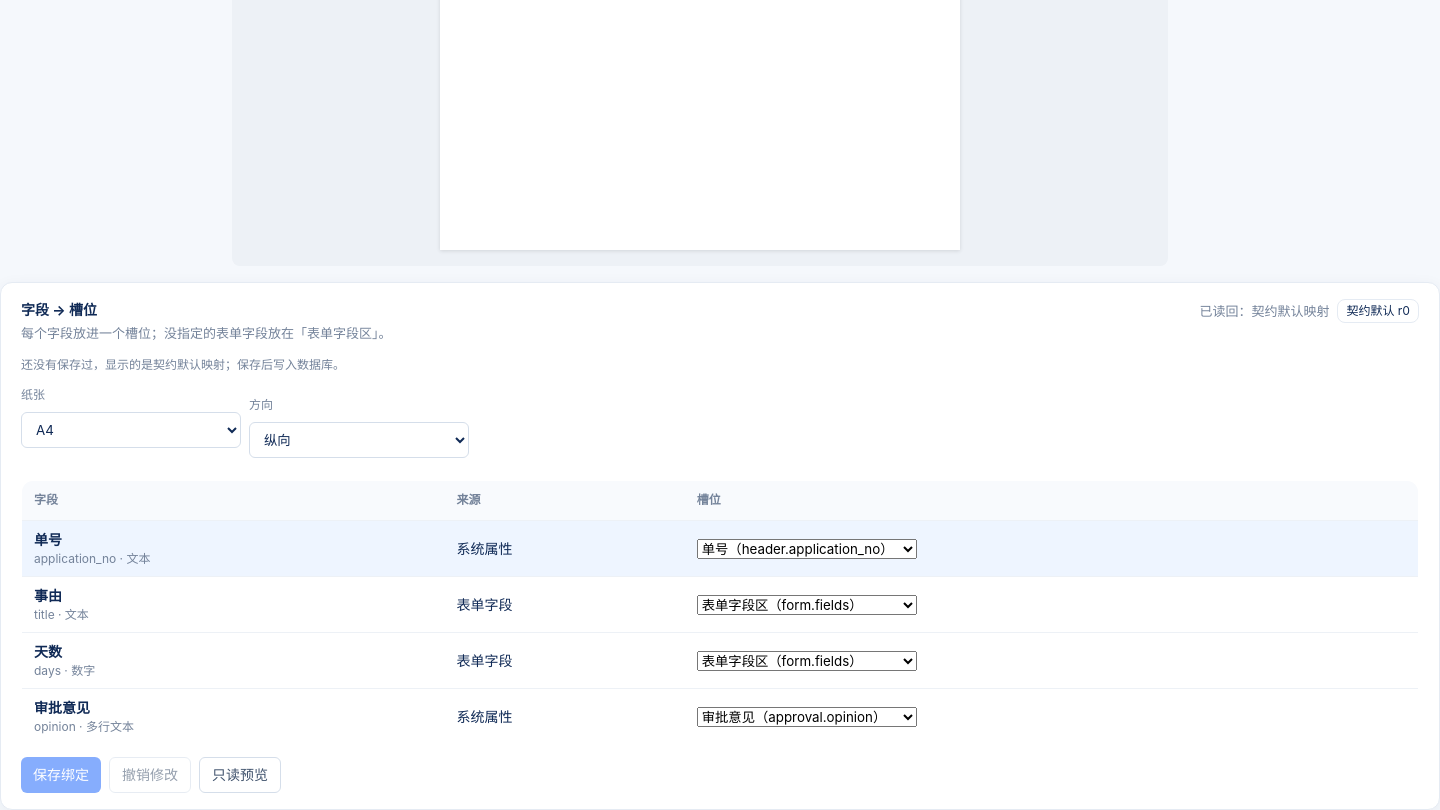
honest save and revision (CF-RD3) › keeps the draft and the table on other save failures
(page scrolled)
Step 1. Select "未映射（落入表单字段区）" in the dropdown with test id "designer-binding-days" → (807, 661), box [697,651,917,671]
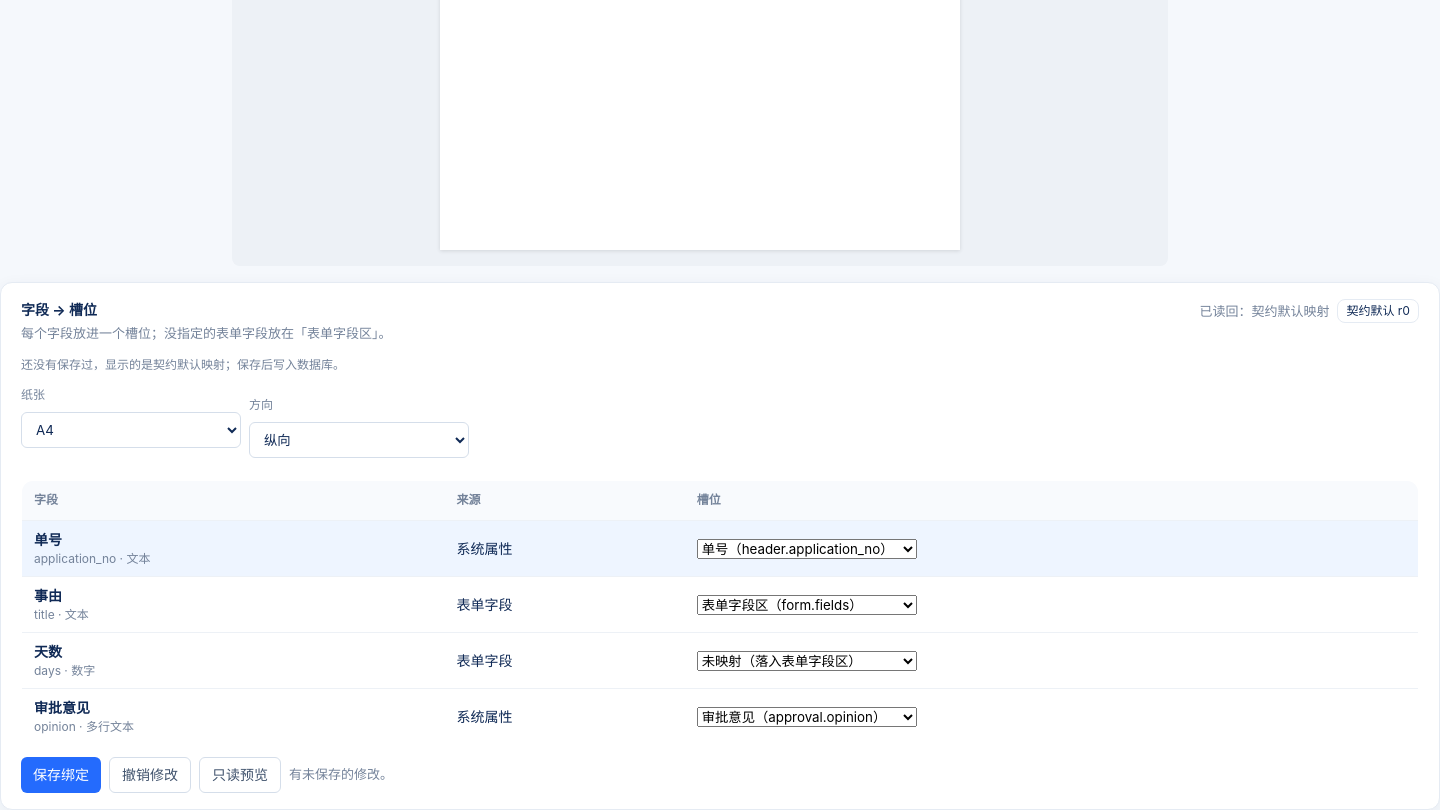
Step 2. Click the button with test id "designer-binding-save" → click(61, 775), box [21,757,101,793]
(page scrolled)
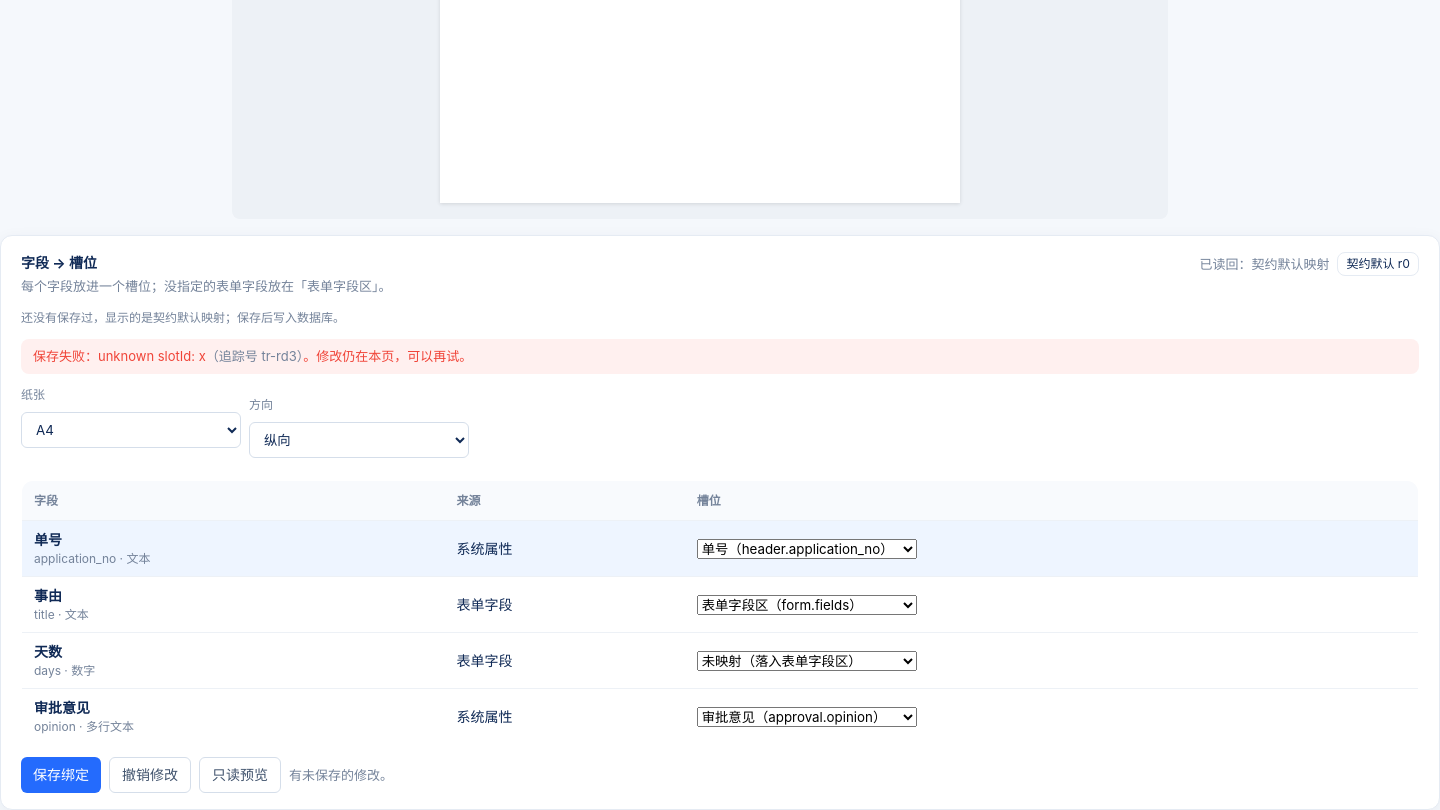
Check: the button with test id "designer-binding-save" is enabled, box [21,757,101,793]
Check: the message with test id "designer-binding-save-error" shows "unknown slotId: x", box [33,348,206,364]
Check: the message with test id "designer-binding-save-error" shows "tr-rd3", box [206,348,303,364]
